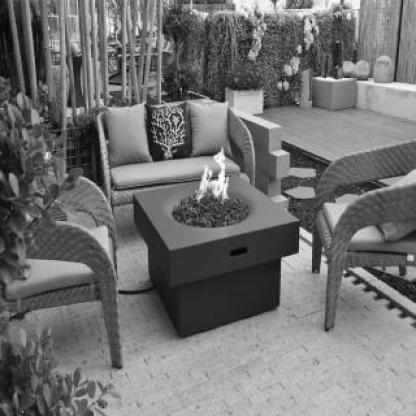fire: (199, 146, 233, 208)
